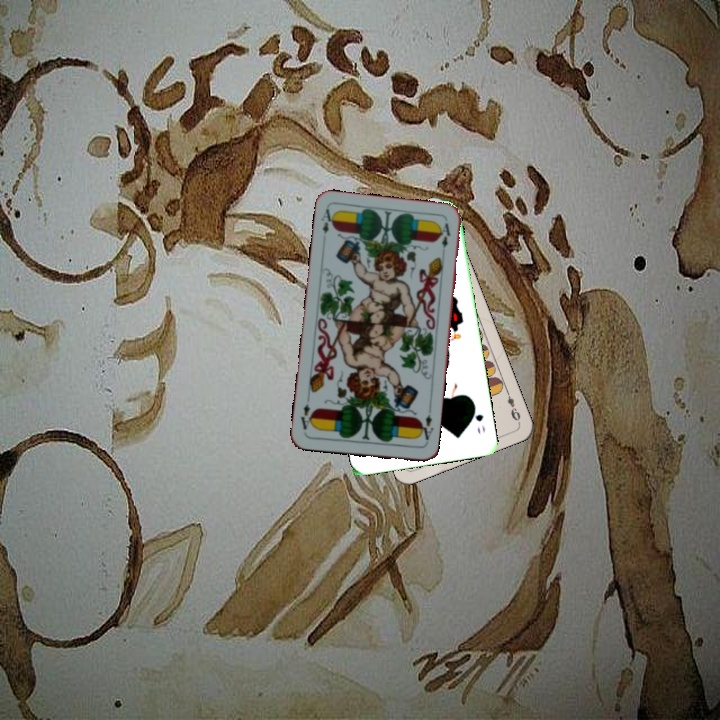E9: (502, 386, 523, 424)
EA: (415, 411, 436, 446), (317, 205, 337, 236)
GO: (468, 400, 488, 437)
